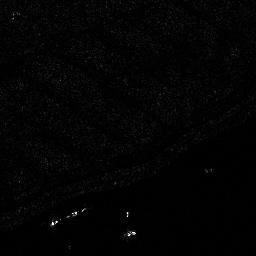ship: (50, 207, 88, 225)
